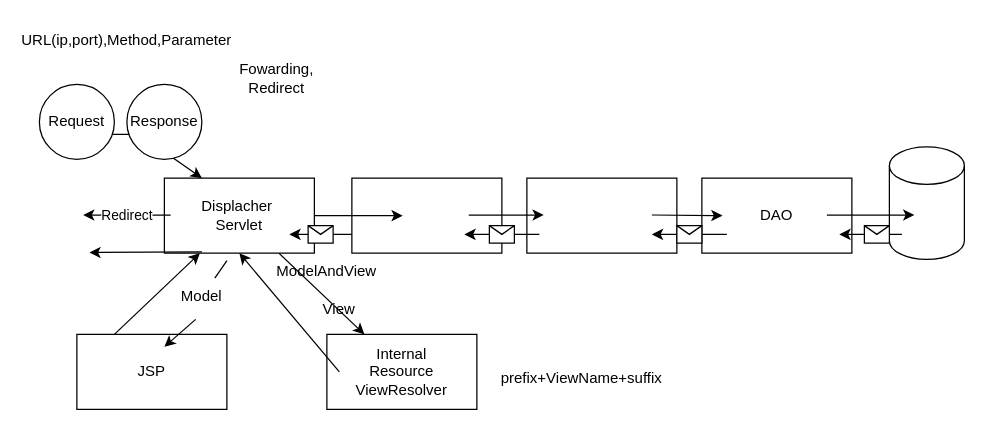
This 986x431 diagram has some shape labels left out. The box of each missing label's shape, as (x1, y1, x2, y2) in pixels:
Controller: (351, 177, 502, 253)
DB: (888, 146, 964, 259)
Service: (526, 177, 677, 253)
